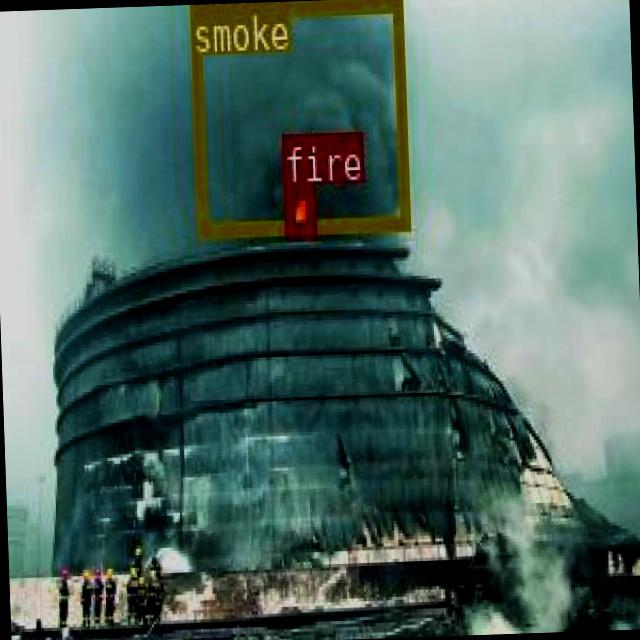fire: (282, 182, 314, 234)
smoke: (188, 0, 407, 235)
